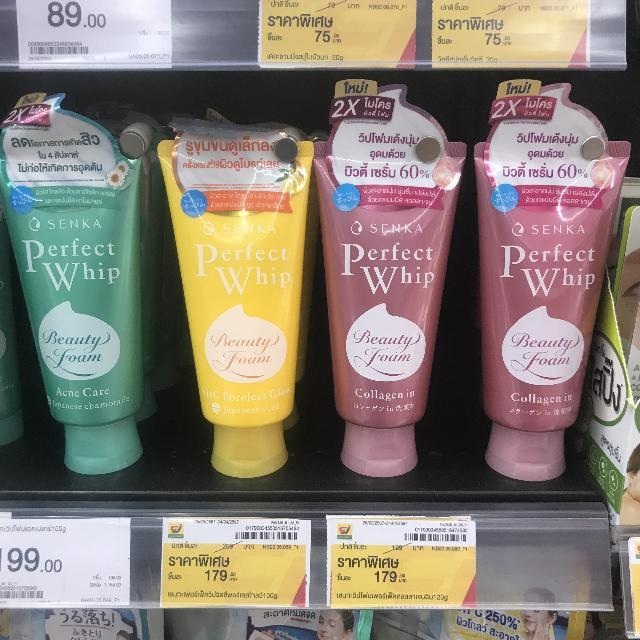Squeeze Tube: (0, 95, 162, 495), (314, 116, 468, 498), (149, 127, 311, 482), (466, 109, 610, 484)
